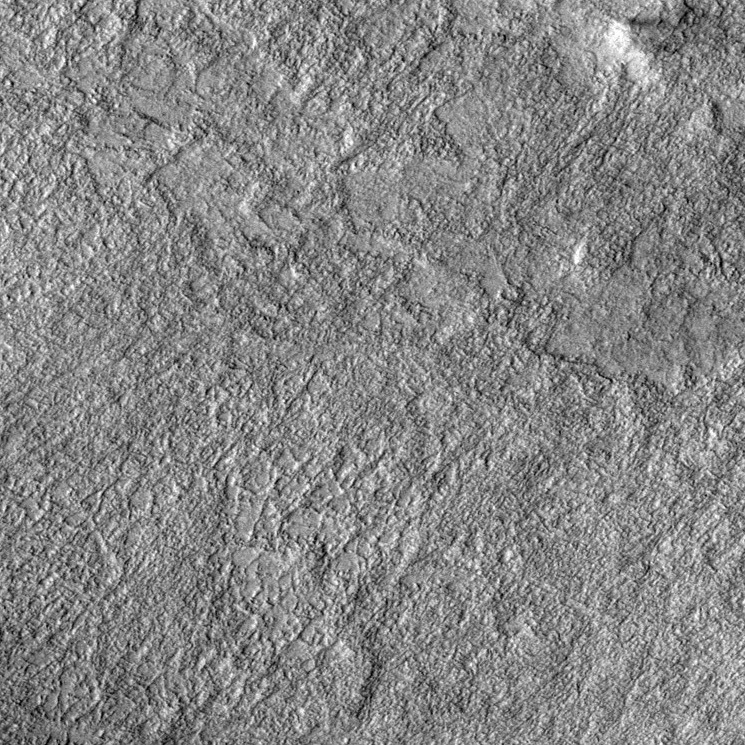dust_devil: (602, 10, 699, 94)
